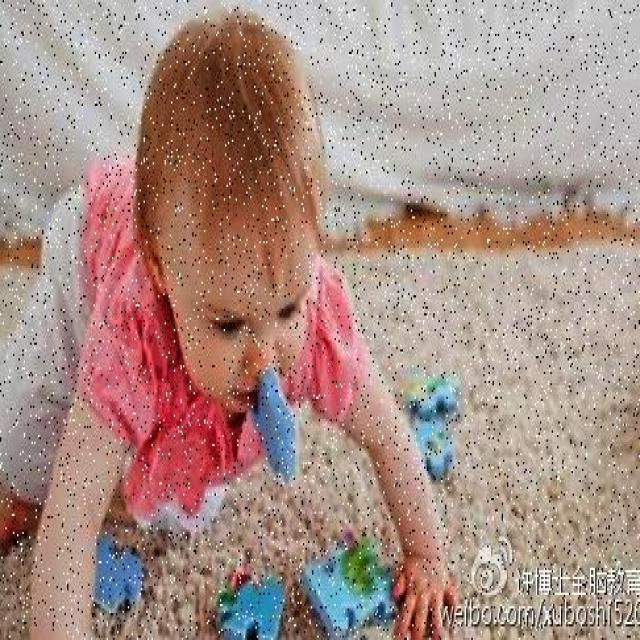fall: (29, 108, 434, 624)
